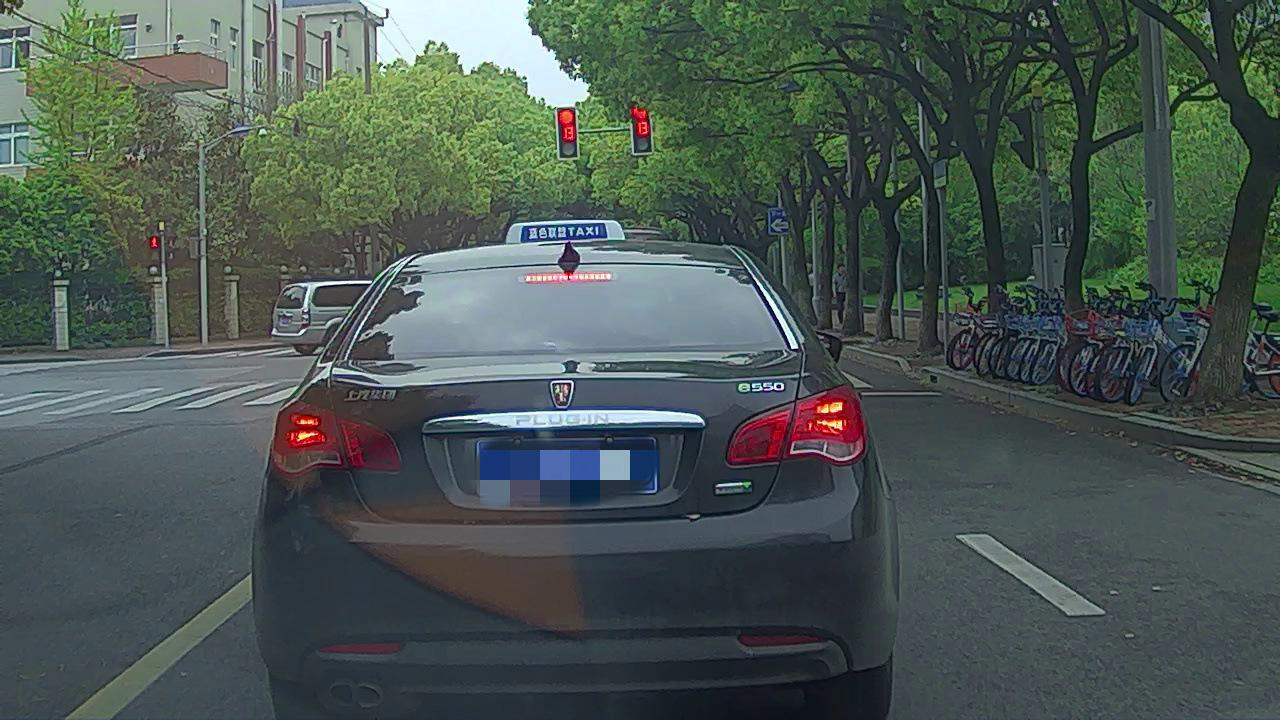traffic_light: (629, 104, 653, 156), (557, 107, 578, 157)
